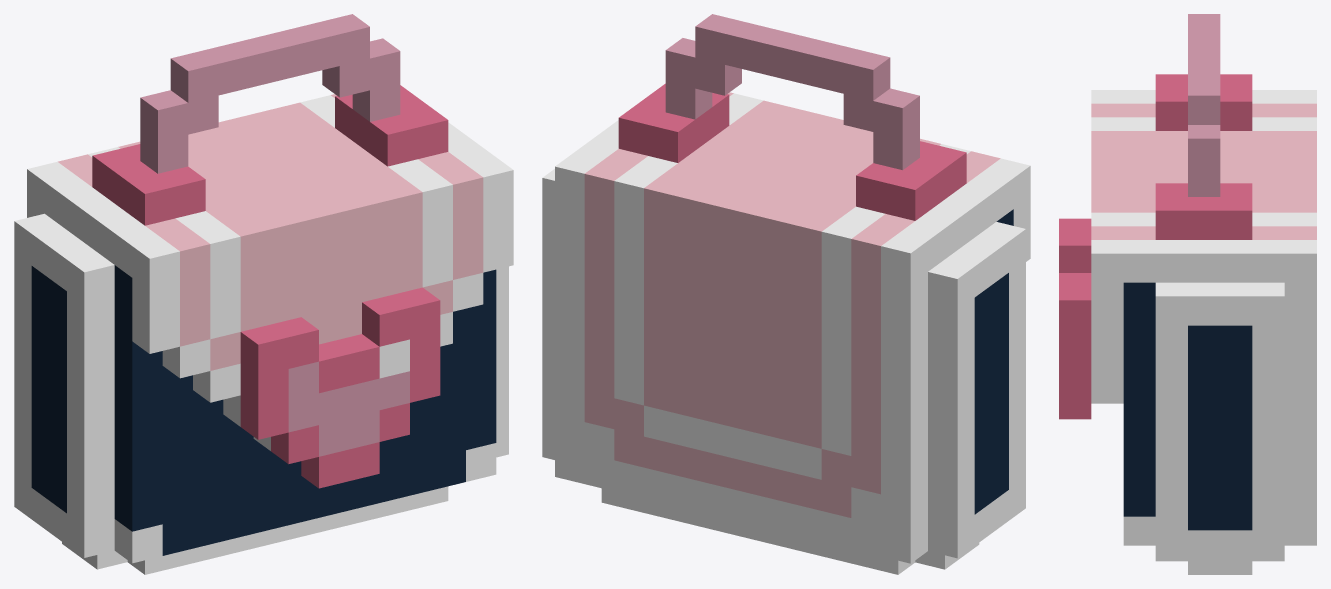
Rendered from item.glb.
3 renders of one model, left to right at view 1: azimuth 30°, elevation 25°; view 2: azimuth 150°, elevation 25°; view 3: azimuth 270°, elevation 25°, orthographic. The views are drawn at different scales.
Visible parts, largest first — view 1: Untitled.001; view 2: Untitled.001; view 3: Untitled.001.
Boxes of the visible parts, left/top/right/bottom form: Untitled.001: left=14, top=14, right=513, bottom=574; Untitled.001: left=542, top=14, right=1030, bottom=574; Untitled.001: left=1059, top=14, right=1316, bottom=574.
Size of the model in its own units: 1.4 by 1.5 by 0.8.
Materials: 1 (1 with a texture image).
